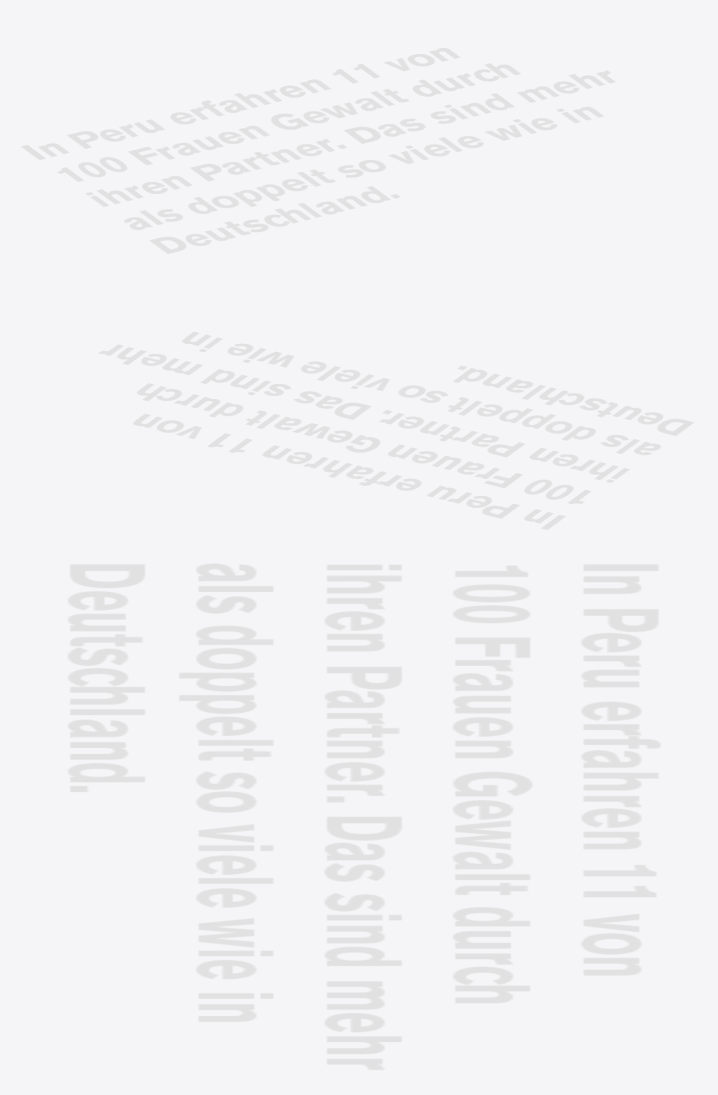
The model's file is privileged-iii-Fakten1.glb.
3 views of the same model, one above another, from view 1: azimuth 30°, elevation 25°; view 2: azimuth 150°, elevation 25°; view 3: azimuth 270°, elevation 25° (orthographic). The views are drawn at different scales.
Parts seen in each view (by area): view 1: 1; view 2: 1; view 3: 1.
Part boxes in pixels (box(x1,y1,x2,y2)): 1: box(21, 48, 615, 253); 1: box(98, 331, 694, 529); 1: box(67, 563, 660, 1069).
Size of the model in its own units: 2.03 by 0 by 1.04.
1 material, 1 textured.
